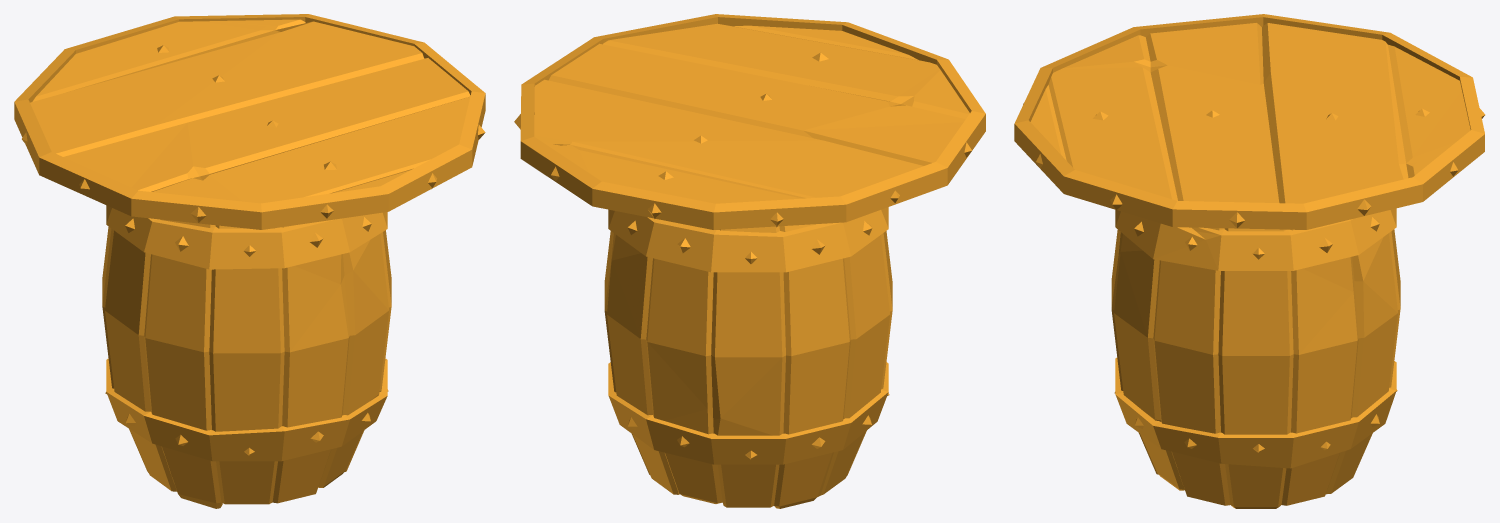
File: SM_Table_Barrel_B_Fantasy.fbx
The picture shows the model from 3 angles, left to right: view 1: azimuth 30°, elevation 25°; view 2: azimuth 150°, elevation 25°; view 3: azimuth 270°, elevation 25°; orthographic projection.
Parts seen in each view (by area): view 1: table-barrel-b-fantasy; view 2: table-barrel-b-fantasy; view 3: table-barrel-b-fantasy.
Part boxes in pixels (bbox=[...]): table-barrel-b-fantasy: bbox=[14, 14, 485, 508]; table-barrel-b-fantasy: bbox=[514, 14, 985, 508]; table-barrel-b-fantasy: bbox=[1014, 14, 1485, 508].
Size of the model in its own units: 1.21 by 1.03 by 1.21.
